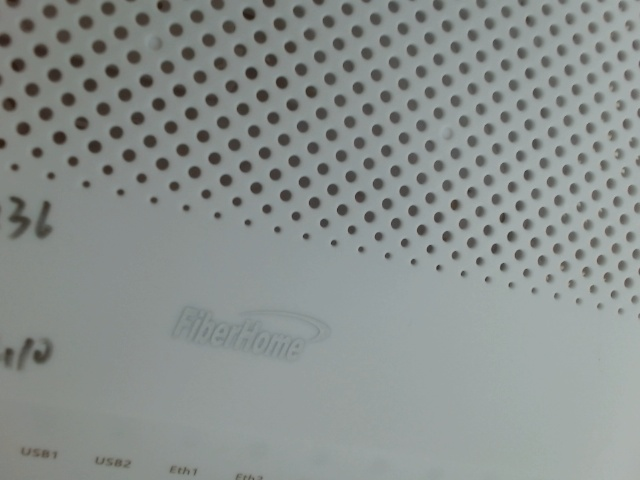AI_FiberHome: (162, 289, 340, 367)
